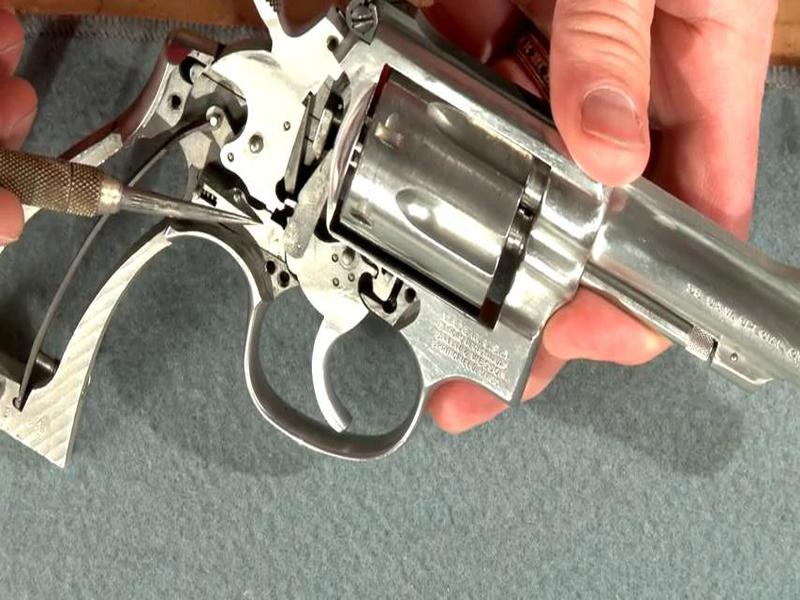Revolver: (25, 27, 776, 511)
